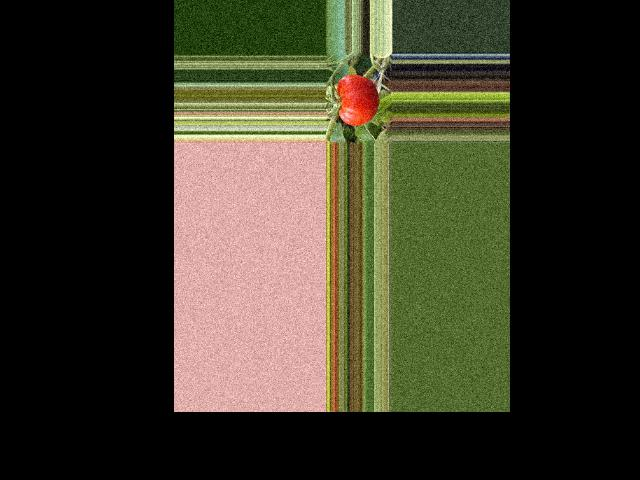tomato: (337, 74, 379, 125)
